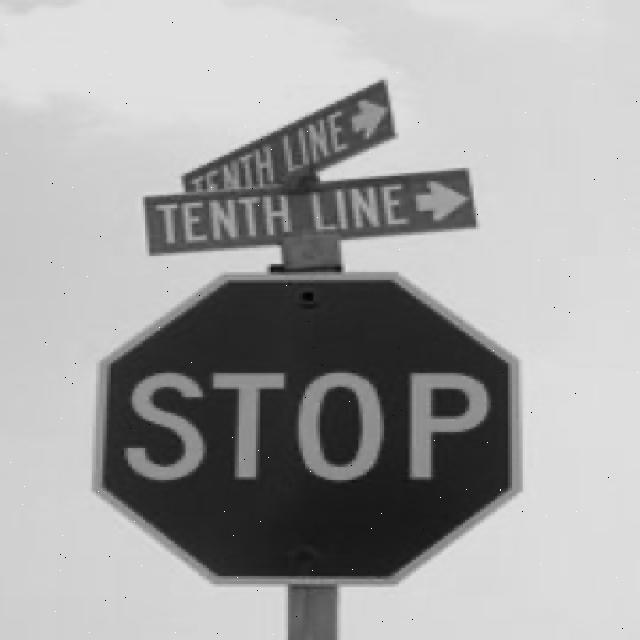Stop-signs: (94, 272, 523, 585)
